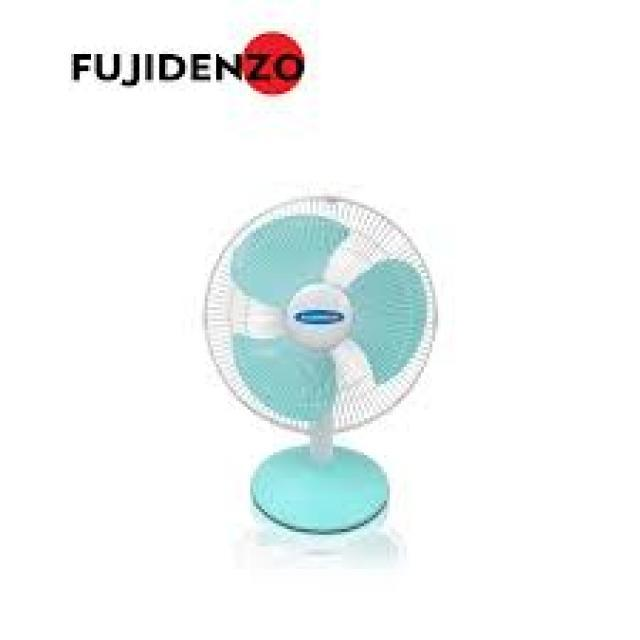fan: (166, 131, 474, 578)
